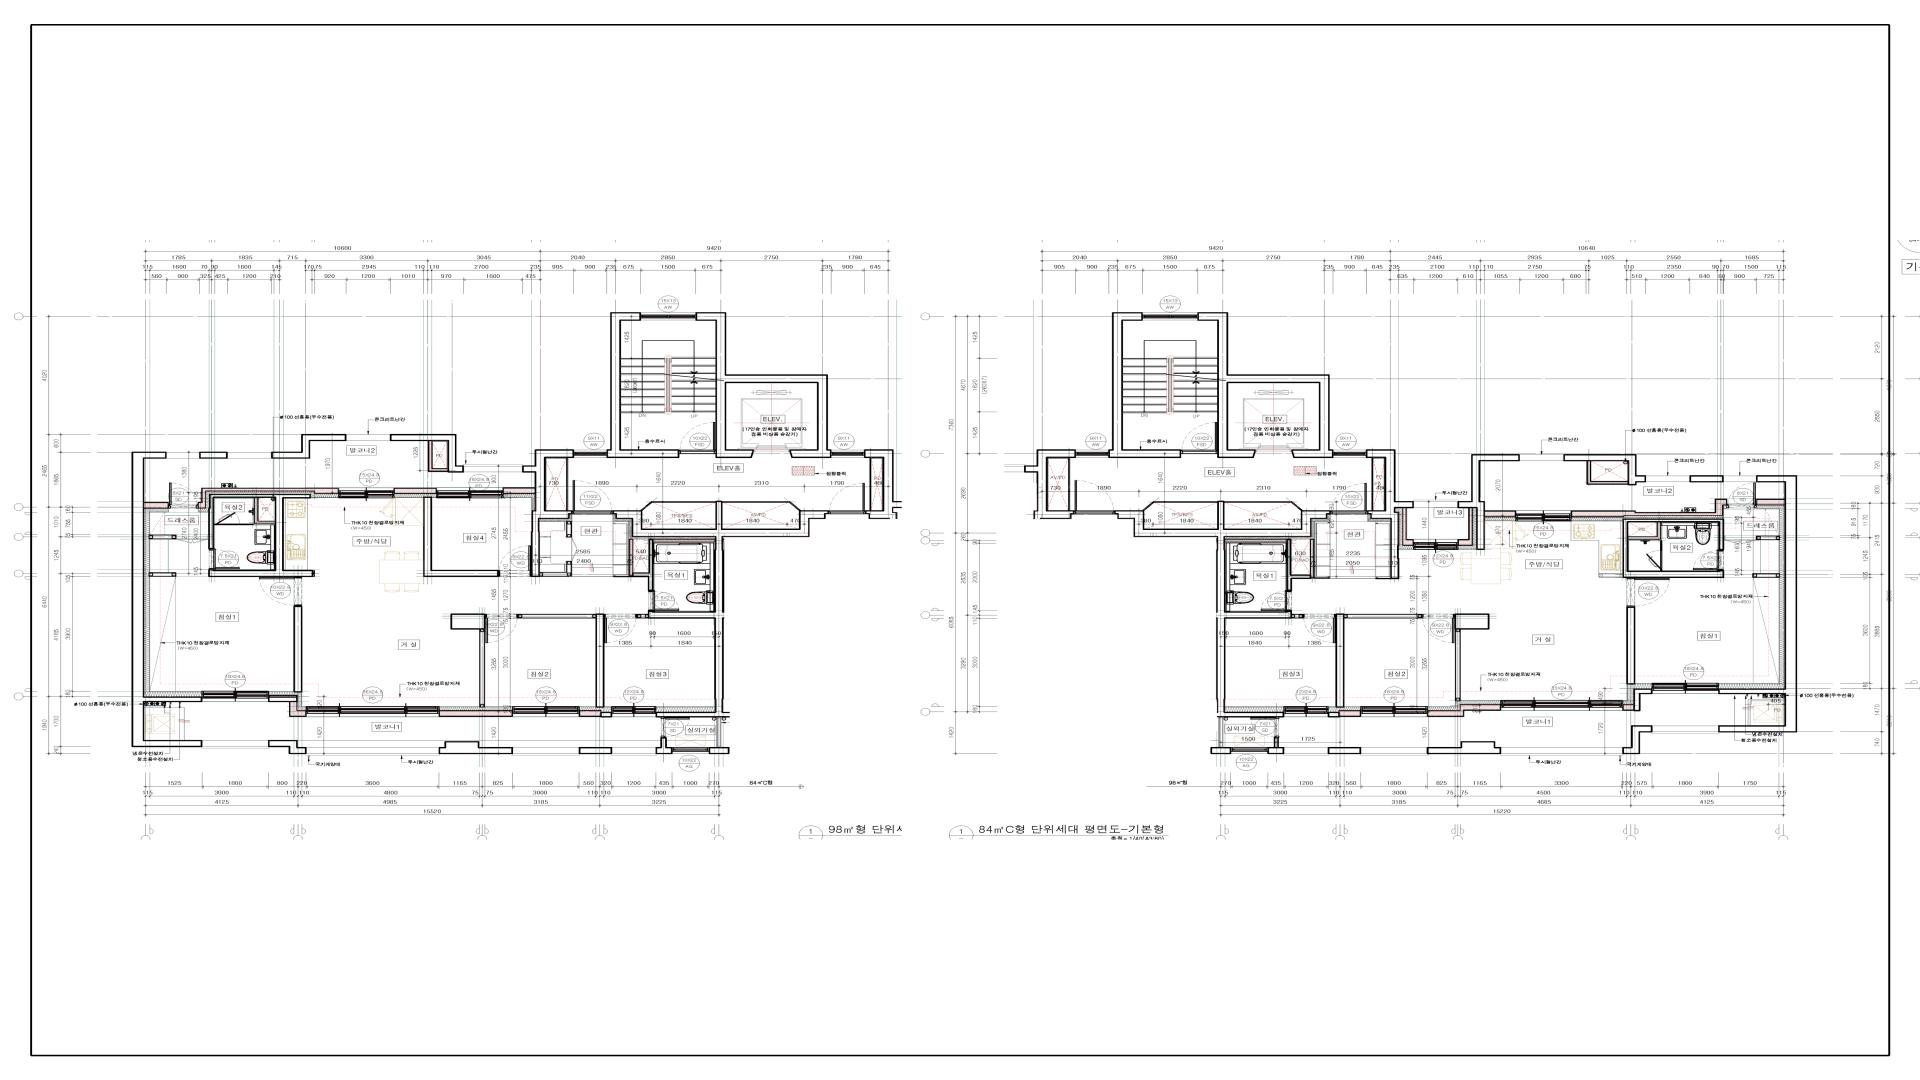door: (572, 480, 613, 514), (1075, 480, 1114, 514), (258, 578, 302, 607), (1626, 578, 1669, 607), (1331, 483, 1367, 514), (679, 422, 716, 454), (1182, 422, 1217, 454), (829, 483, 865, 514), (498, 546, 531, 576), (1422, 615, 1456, 644), (485, 615, 517, 644), (1304, 615, 1336, 644), (604, 615, 636, 644), (169, 483, 198, 509), (1727, 483, 1756, 508), (208, 549, 240, 570), (1261, 591, 1292, 612), (647, 591, 679, 612), (1693, 550, 1724, 571), (1250, 717, 1279, 738), (661, 717, 690, 737), (216, 512, 240, 525), (1647, 550, 1663, 570), (1725, 535, 1756, 545), (177, 535, 208, 543)
wall: (1114, 501, 1331, 754), (613, 501, 829, 717), (132, 452, 203, 748), (1718, 475, 1797, 733), (695, 313, 832, 458), (1197, 313, 1333, 458), (1108, 313, 1182, 458), (607, 313, 679, 458), (208, 495, 315, 578), (517, 615, 604, 708), (1336, 615, 1422, 708), (1225, 521, 1331, 591), (522, 450, 574, 578), (1366, 450, 1414, 579), (1622, 518, 1725, 578), (423, 497, 498, 578), (1458, 454, 1520, 550), (629, 539, 716, 591), (1025, 450, 1076, 520), (864, 450, 913, 520), (451, 613, 485, 708), (1455, 613, 1490, 700), (198, 488, 339, 509), (390, 434, 464, 473), (1572, 498, 1727, 517), (1564, 454, 1646, 485), (272, 434, 347, 459), (439, 741, 513, 754), (1428, 704, 1501, 717), (1428, 741, 1501, 754), (613, 521, 629, 578), (1375, 522, 1391, 579), (1623, 725, 1652, 754), (269, 695, 306, 717), (1586, 464, 1625, 485), (293, 607, 302, 692), (723, 501, 802, 510), (1626, 607, 1635, 684), (1225, 501, 1303, 510), (1142, 501, 1217, 510), (641, 501, 716, 510), (427, 442, 448, 472), (268, 740, 307, 754), (539, 560, 572, 578), (1629, 522, 1662, 539), (1458, 508, 1473, 546), (255, 498, 274, 525), (439, 711, 512, 717), (1402, 508, 1414, 546), (1634, 688, 1652, 711), (655, 737, 673, 754), (394, 488, 436, 495), (1689, 475, 1724, 483), (1328, 748, 1361, 754), (579, 748, 612, 754), (580, 711, 612, 717), (1329, 711, 1361, 717), (504, 488, 534, 495), (1485, 510, 1515, 517), (199, 452, 228, 459), (1756, 498, 1784, 505), (144, 502, 169, 509), (149, 534, 177, 539), (149, 572, 177, 578), (1068, 458, 1071, 510), (566, 458, 568, 510), (1756, 535, 1780, 541), (566, 521, 572, 538), (1267, 748, 1284, 754), (1753, 574, 1780, 578), (709, 748, 721, 754), (870, 458, 872, 510), (1623, 704, 1634, 711), (1371, 458, 1373, 510), (1274, 738, 1279, 748), (636, 615, 647, 618), (1292, 615, 1304, 618), (1660, 541, 1663, 550), (240, 524, 255, 525)
window: (306, 707, 439, 717), (1501, 700, 1623, 711), (307, 748, 439, 756), (1501, 748, 1623, 756), (436, 487, 504, 498), (512, 707, 580, 717), (202, 691, 269, 702), (1361, 707, 1428, 717), (1652, 683, 1720, 694), (1515, 510, 1572, 522), (338, 488, 394, 498), (1361, 748, 1428, 756), (202, 741, 268, 749), (513, 748, 579, 756), (1652, 727, 1718, 735), (1283, 707, 1329, 717), (612, 707, 657, 717), (1414, 539, 1458, 550), (464, 464, 522, 472), (641, 313, 695, 320), (1414, 500, 1458, 508), (612, 748, 655, 756), (1520, 454, 1564, 462), (1284, 748, 1328, 756), (228, 452, 272, 459), (1646, 476, 1689, 483), (574, 450, 607, 458), (1333, 450, 1366, 458), (832, 450, 864, 458), (1076, 450, 1108, 458), (673, 748, 709, 754), (1232, 748, 1267, 754), (347, 435, 390, 440), (166, 452, 199, 459), (1724, 476, 1756, 481)
